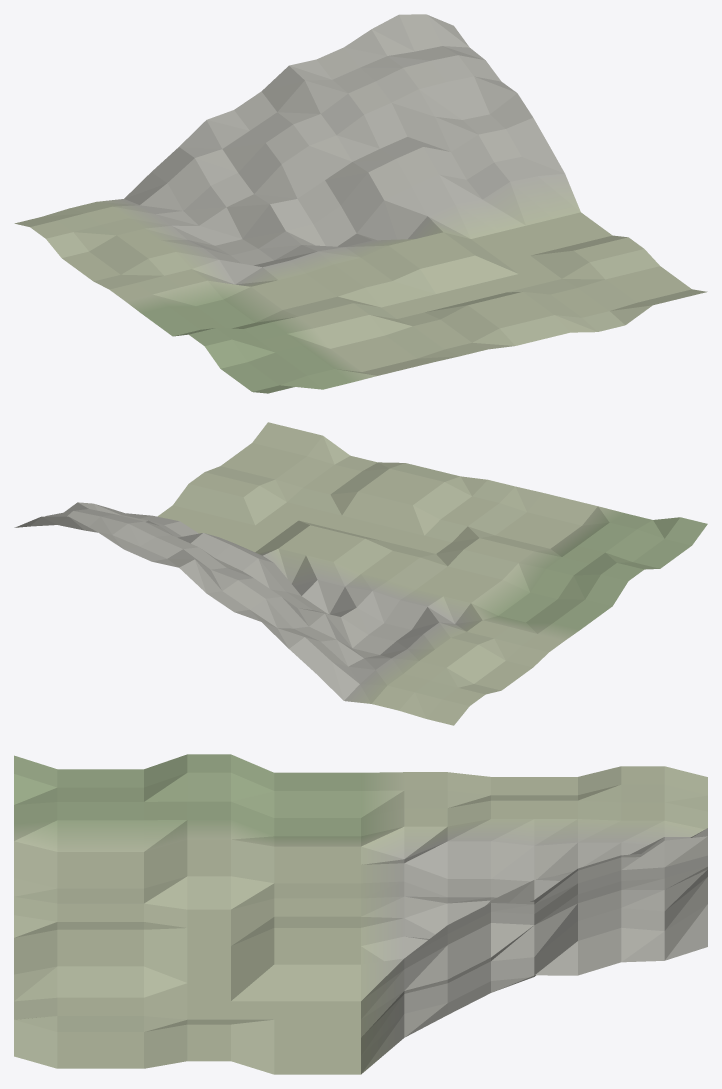
The picture shows the model from 3 angles, top to bottom: view 1: azimuth 30°, elevation 25°; view 2: azimuth 150°, elevation 25°; view 3: azimuth 270°, elevation 25°; orthographic projection. The views are drawn at different scales.
Size of the model in its own units: 32 by 8.86 by 32.
